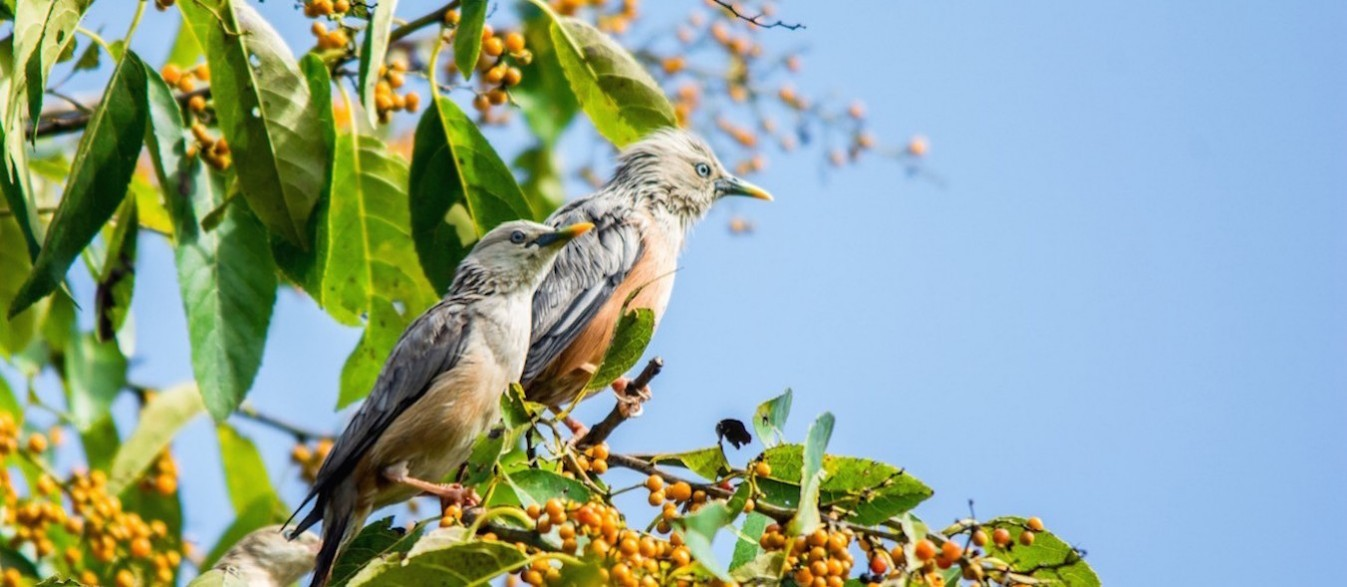bird: (485, 111, 785, 506), (276, 211, 581, 574)
